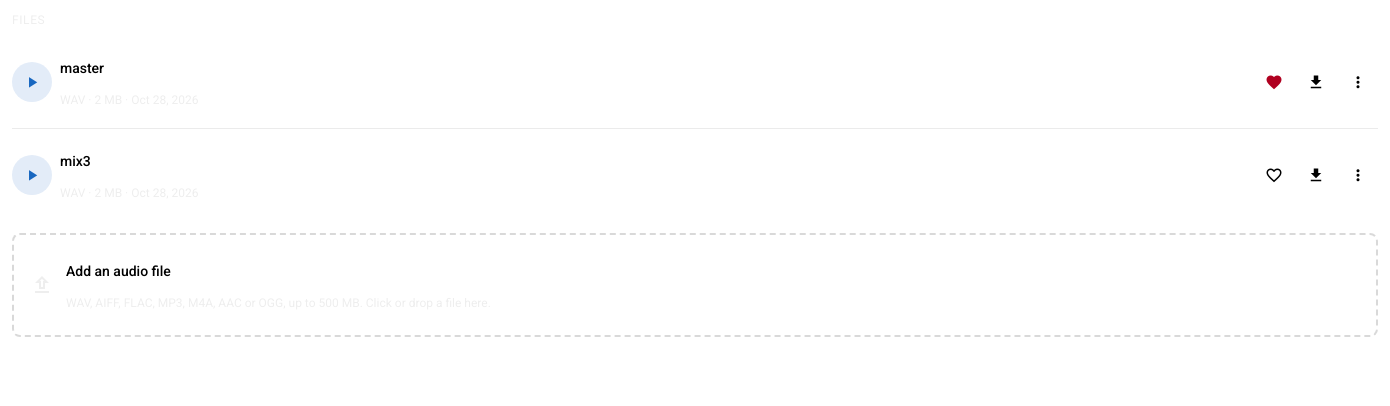
SongFilesSection › actions › reports a failed change in place
The image size is (1390, 406).
Click the button named "Mark mix3 as the main file": (1274, 175) [1254,155,1294,195]
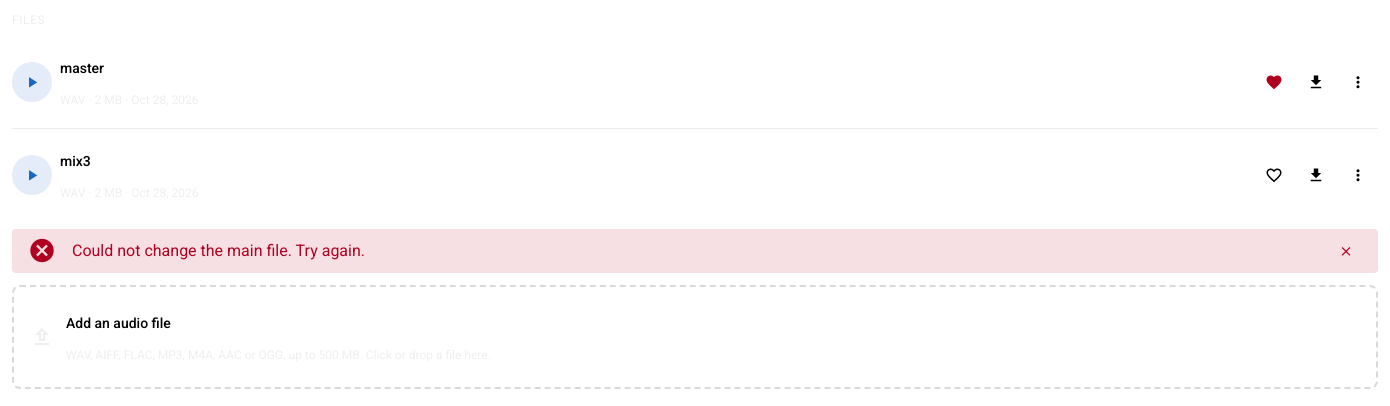
expect the text "Could not change the main file. Try again." is shown: met, box [72,241,365,260]
